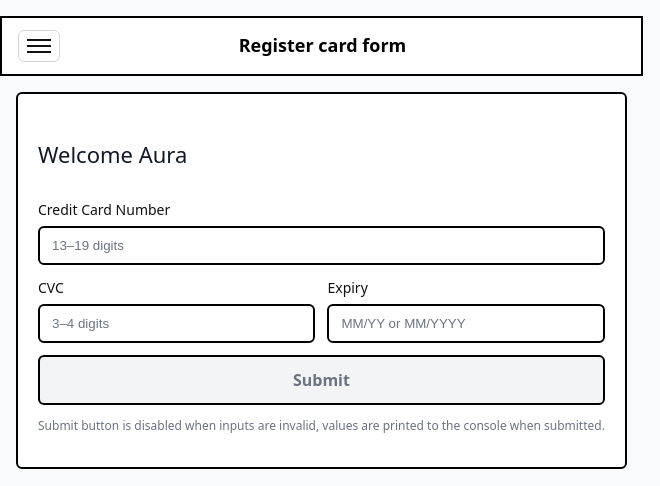
Register Card Form › enables submit button when inputs are valid
Type "4111111111111111" into the field labelled "Credit Card Number" at (321, 245), box [38,226,605,264]
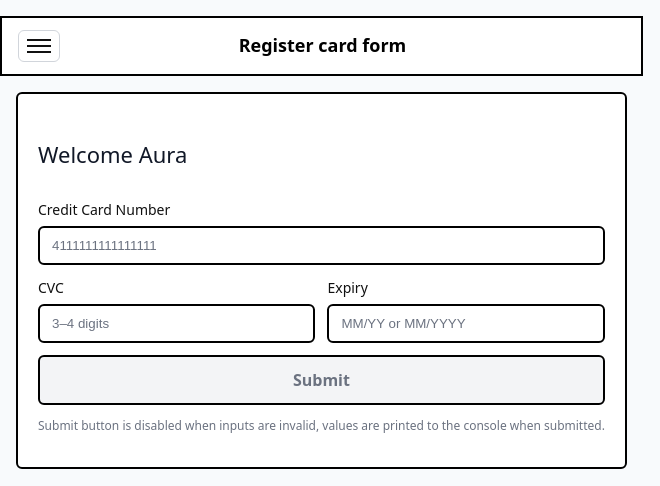
Type "123" into the field labelled "CVC" at (177, 323), box [38,304,316,342]
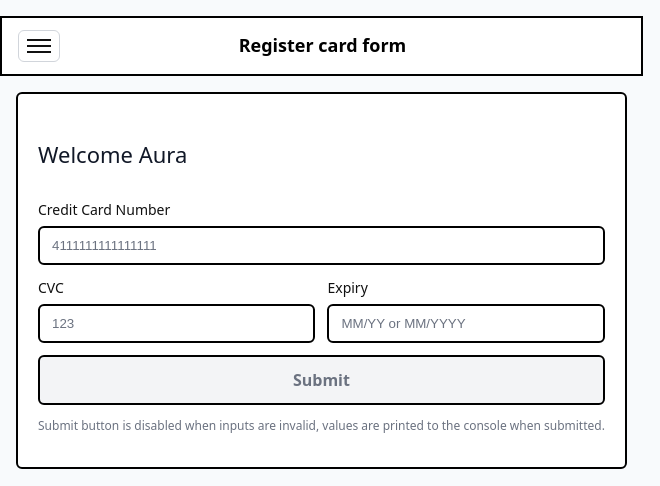
Type "12/29" into the field labelled "Expiry" at (466, 323), box [328,304,605,342]
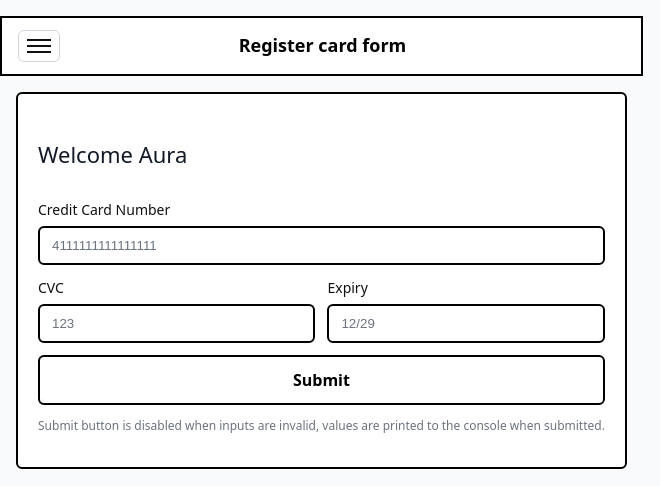
Result: the button "Submit" is enabled at [38,354,605,404]
